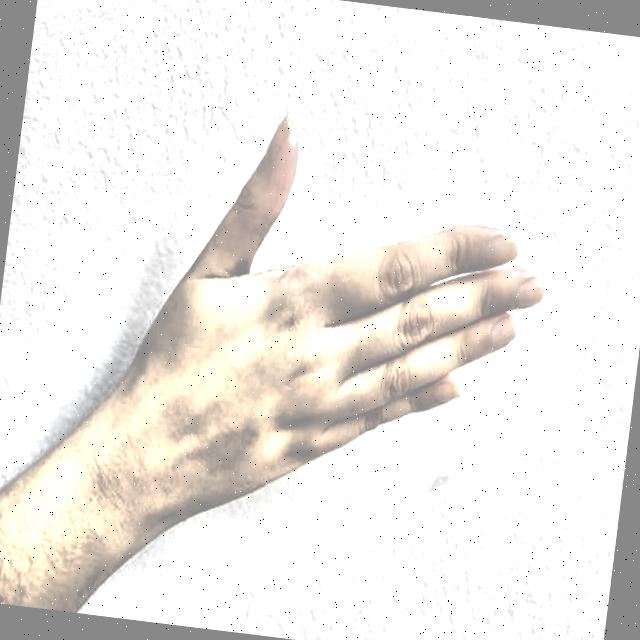Aa: (98, 59, 580, 570)
